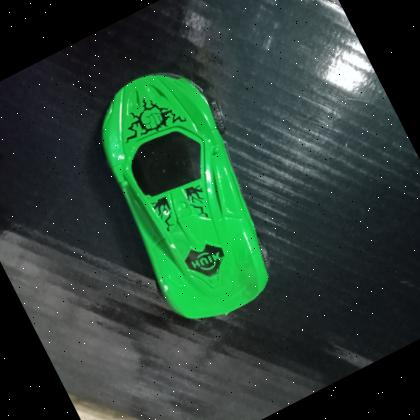Car: (100, 71, 269, 318)
